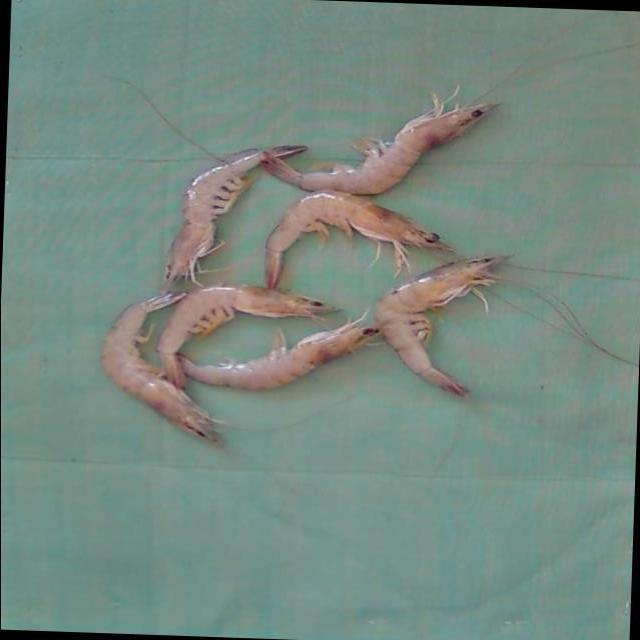shrimp: (260, 95, 497, 194), (165, 144, 308, 288), (156, 283, 336, 388), (374, 257, 506, 396), (265, 191, 451, 288), (101, 292, 215, 442), (178, 315, 378, 391)
